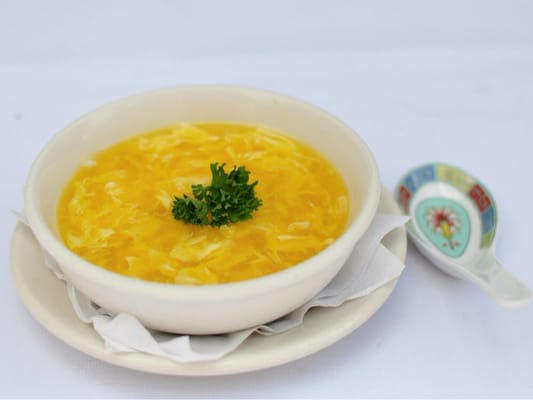curry: (171, 162, 264, 228)
salad: (393, 162, 533, 312)
sushi: (14, 83, 381, 336)
